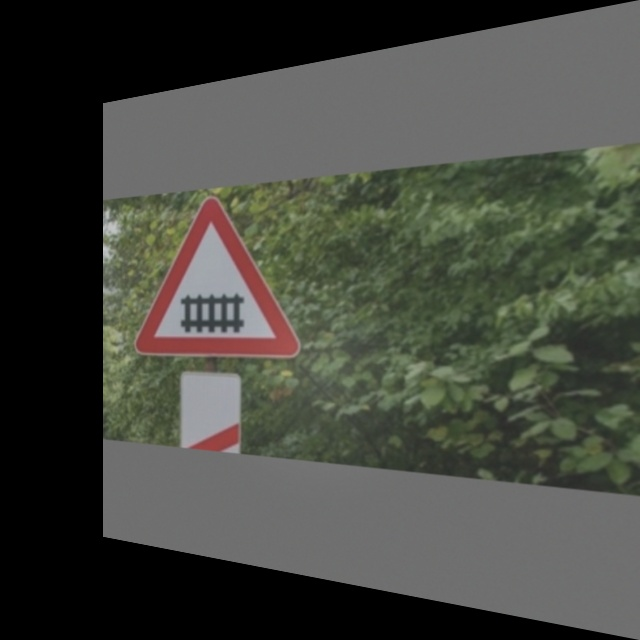Guarded_Level_Crossing: (136, 195, 295, 356)
